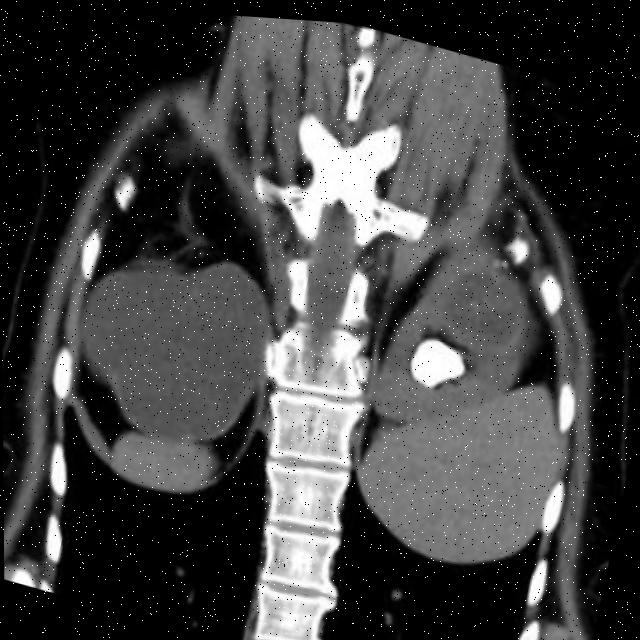Tas_Var: (392, 306, 484, 413), (490, 247, 514, 268)
